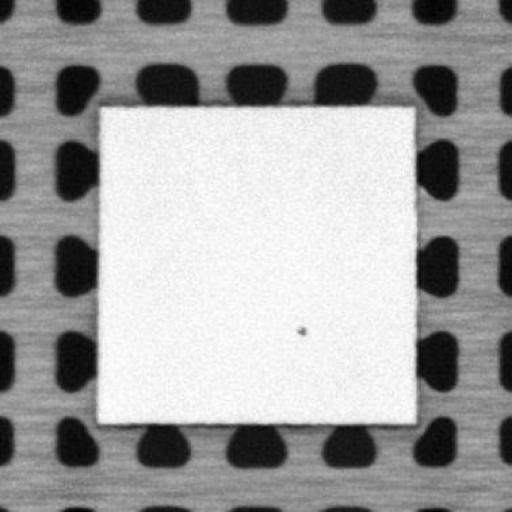DIE_INK: (295, 323, 305, 335)
